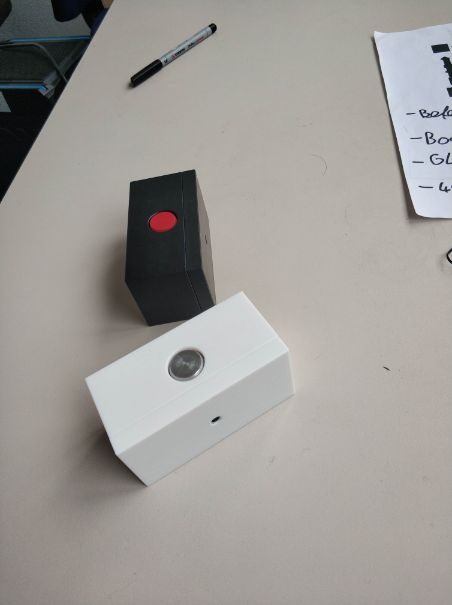black+black+red: (122, 168, 222, 326)
white+white+silver: (82, 289, 299, 488)
